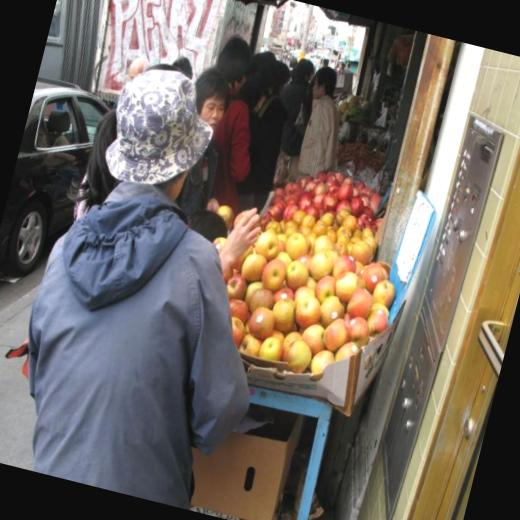Apple: (186, 146, 423, 394), (246, 302, 278, 340)
